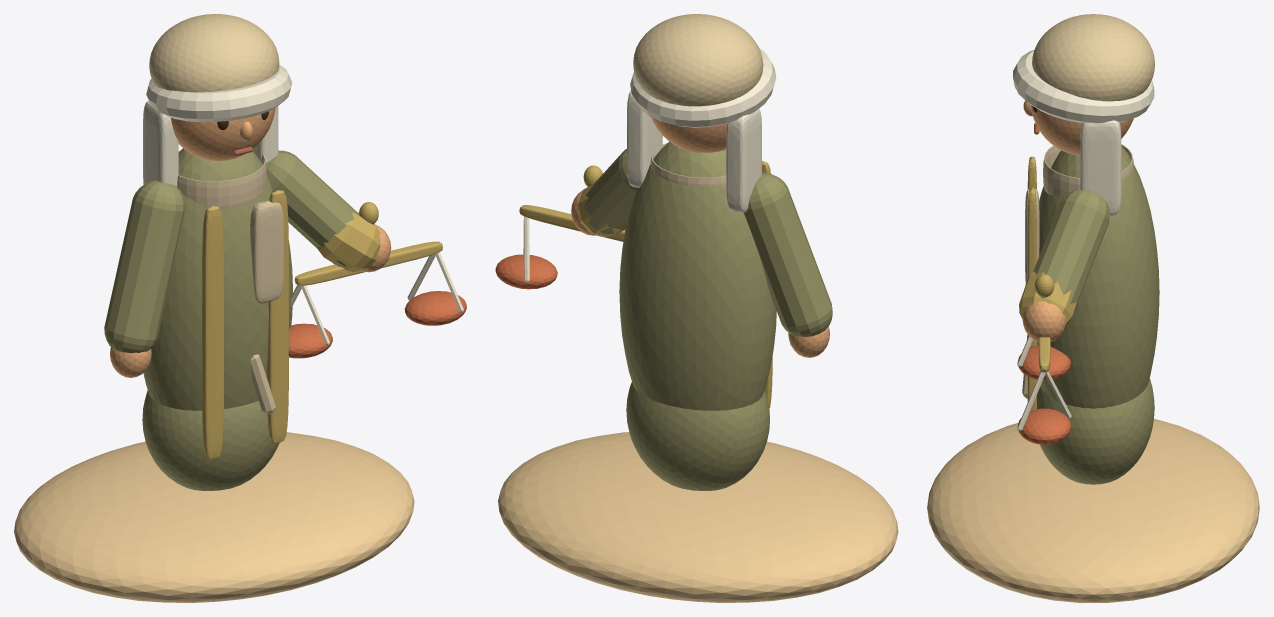
File: qadi.glb
3 renders of one model, left to right at view 1: azimuth 30°, elevation 25°; view 2: azimuth 150°, elevation 25°; view 3: azimuth 270°, elevation 25°, orthographic.
Visible parts, largest first — view 1: Base, Robe, Sleeve_L, Robe_Low, Turban, Trim_-1, Sleeve_R, Turban_Wrap, Trim_1, Scarf_Tail, Head, Side_R (+8 smaller); view 2: Base, Robe, Robe_Low, Turban, Sleeve_L, Turban_Wrap, Side_R, Sleeve_R, Side_L, Head, Pan_R, Sc_Beam (+3 smaller); view 3: Base, Robe, Turban, Robe_Low, Sleeve_R, Turban_Wrap, Side_L, Head, Pan_R, Hand_R, Neck_Scarf, Cuff_R (+3 smaller).
Boxes of the visible parts, x1=… form: Base: x1=14, y1=432, x2=414, y2=602; Robe: x1=143, y1=148, x2=292, y2=410; Sleeve_L: x1=104, y1=180, x2=184, y2=353; Robe_Low: x1=142, y1=390, x2=279, y2=490; Turban: x1=149, y1=14, x2=279, y2=92; Trim_-1: x1=202, y1=206, x2=223, y2=459; Sleeve_R: x1=266, y1=150, x2=358, y2=266; Turban_Wrap: x1=146, y1=65, x2=292, y2=122; Trim_1: x1=267, y1=190, x2=288, y2=443; Scarf_Tail: x1=250, y1=200, x2=284, y2=303; Head: x1=171, y1=107, x2=275, y2=160; Side_R: x1=143, y1=101, x2=178, y2=186; Base: x1=498, y1=432, x2=898, y2=602; Robe: x1=619, y1=141, x2=776, y2=410; Robe_Low: x1=626, y1=382, x2=769, y2=490; Turban: x1=633, y1=14, x2=763, y2=106; Sleeve_L: x1=744, y1=172, x2=832, y2=337; Turban_Wrap: x1=630, y1=48, x2=776, y2=127; Side_R: x1=726, y1=108, x2=761, y2=213; Sleeve_R: x1=584, y1=149, x2=637, y2=235; Side_L: x1=627, y1=90, x2=662, y2=187; Head: x1=651, y1=117, x2=726, y2=152; Pan_R: x1=495, y1=254, x2=557, y2=289; Sc_Beam: x1=519, y1=205, x2=625, y2=241; Base: x1=927, y1=419, x2=1259, y2=602; Robe: x1=1037, y1=145, x2=1159, y2=408; Turban: x1=1032, y1=14, x2=1154, y2=101; Robe_Low: x1=1037, y1=378, x2=1154, y2=484; Sleeve_R: x1=1033, y1=189, x2=1110, y2=310; Turban_Wrap: x1=1013, y1=50, x2=1154, y2=123; Side_L: x1=1080, y1=120, x2=1121, y2=216; Head: x1=1030, y1=104, x2=1133, y2=155; Pan_R: x1=1017, y1=408, x2=1071, y2=444; Hand_R: x1=1022, y1=301, x2=1065, y2=341; Neck_Scarf: x1=1043, y1=144, x2=1133, y2=195; Cuff_R: x1=1019, y1=271, x2=1076, y2=326.
Size of the model in its own units: 1.38 by 1.73 by 0.9951.
